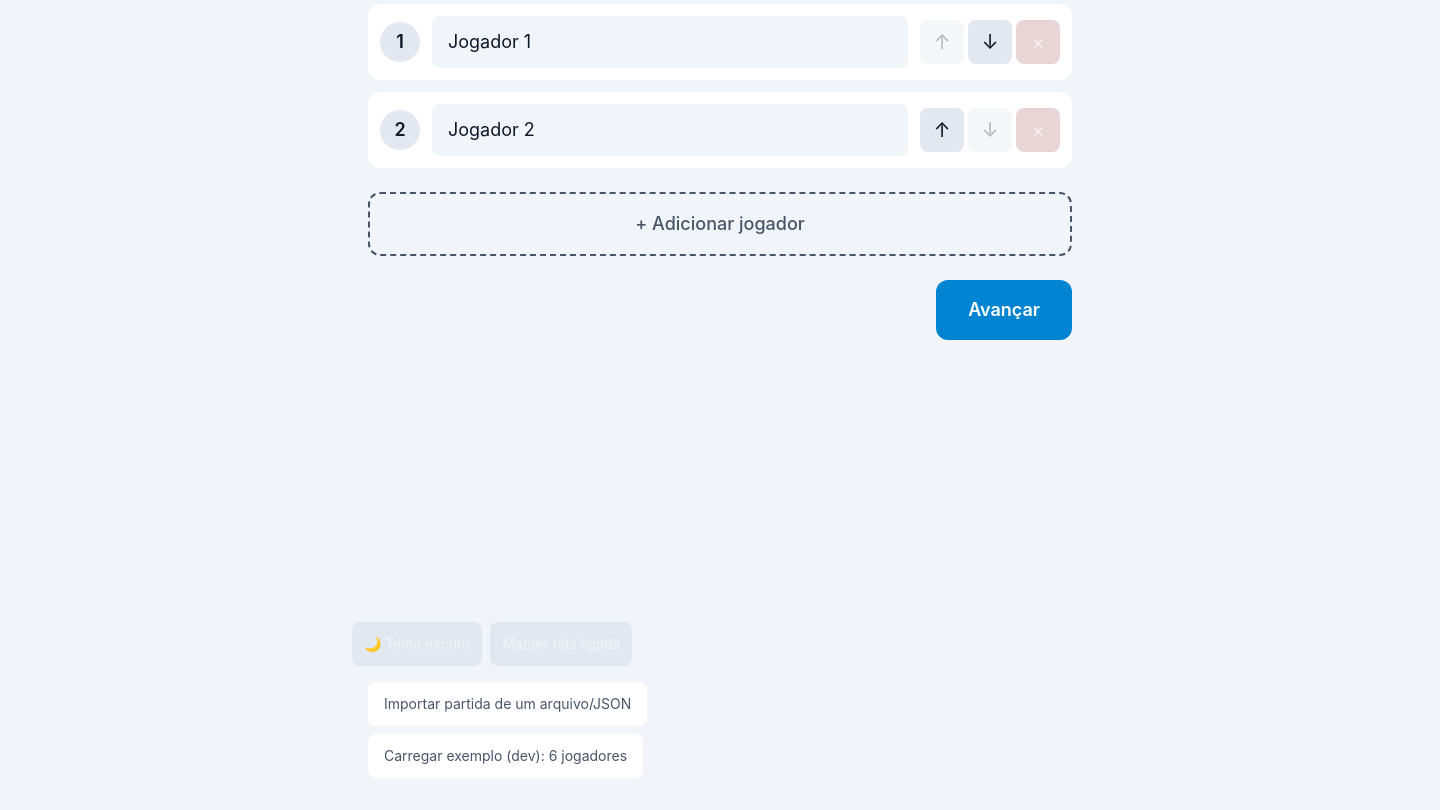
Scenario: Dashboard — critério de aceite (6 jogadores, fixture de dev) › mostra as 6 nações com tesouro, poder e governo
This screenshot has width=1440, height=810.
(page scrolled)
Click the button "Carregar exemplo (dev): 6 jogadores" at (506,756), box [368, 734, 643, 778]
(page scrolled)
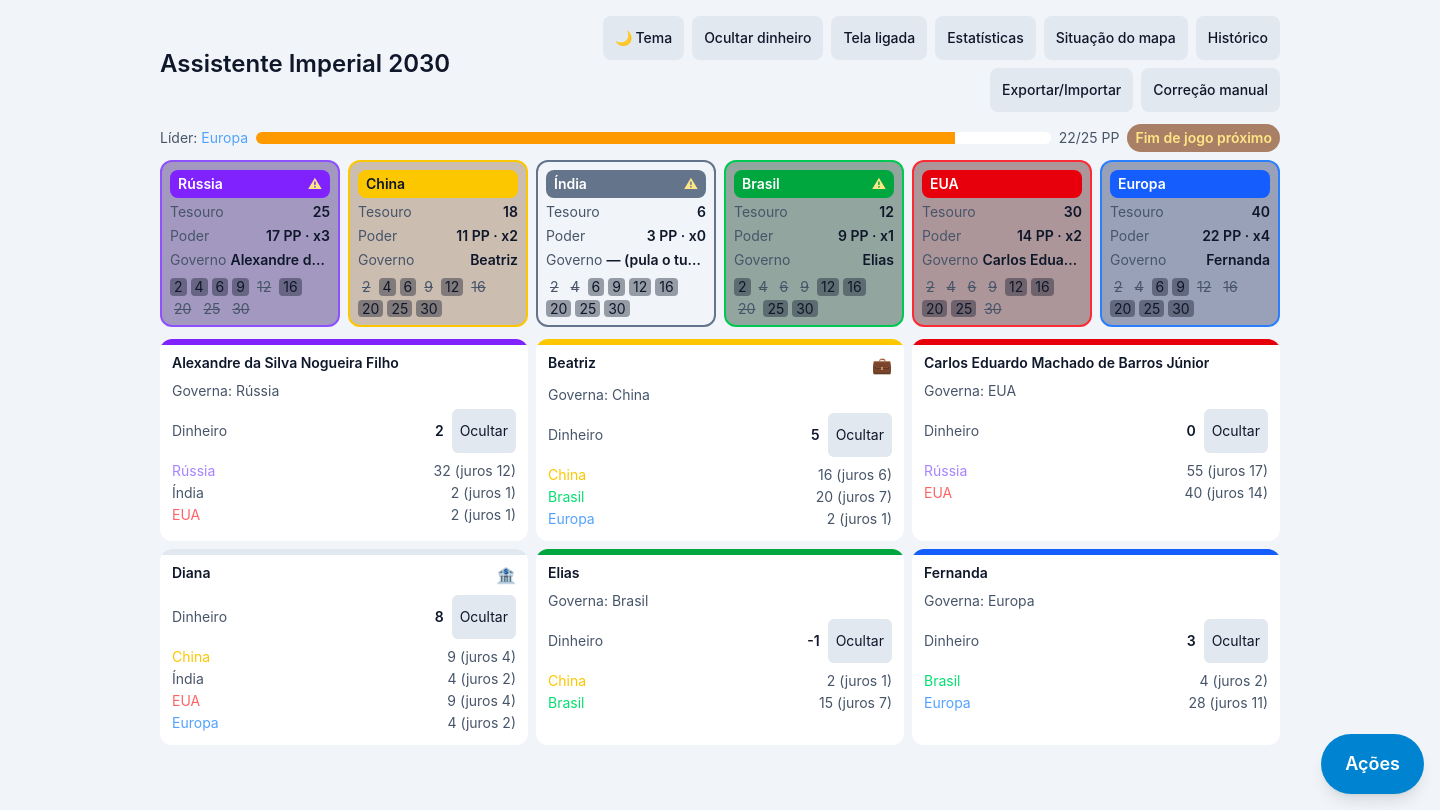
Expected: the text "Rússia" below "Líder:" is shown, [178, 175, 223, 192]
Expected: the text "China" below "Líder:" is shown, [366, 175, 405, 192]
Expected: the 1st text "Índia" is shown, [554, 174, 587, 194]
